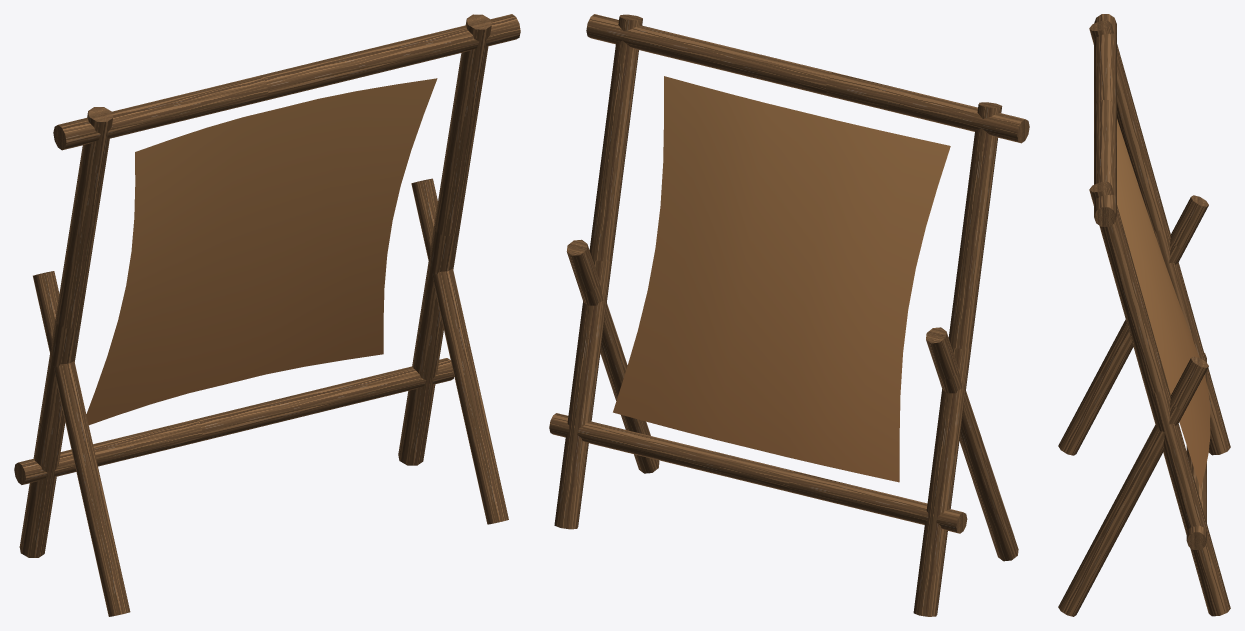
File: station_tanning_rack.glb
The picture shows the model from 3 angles, left to right: view 1: azimuth 30°, elevation 25°; view 2: azimuth 150°, elevation 25°; view 3: azimuth 270°, elevation 25°; orthographic projection. The views are drawn at different scales.
Visible parts, largest first — view 1: station_tanning_rack, station_tanning_rack_log; view 2: station_tanning_rack, station_tanning_rack_log; view 3: station_tanning_rack_log, station_tanning_rack.
Boxes of the visible parts, box(x1,y1,x2,y2) form: station_tanning_rack: box(86, 78, 437, 425); station_tanning_rack_log: box(14, 14, 520, 616); station_tanning_rack: box(613, 76, 950, 482); station_tanning_rack_log: box(549, 14, 1029, 616); station_tanning_rack_log: box(1058, 14, 1230, 616); station_tanning_rack: box(1117, 119, 1210, 488).
Size of the model in its own units: 1.8 by 1.87 by 0.6796.
Materials: 2 (1 with a texture image).
